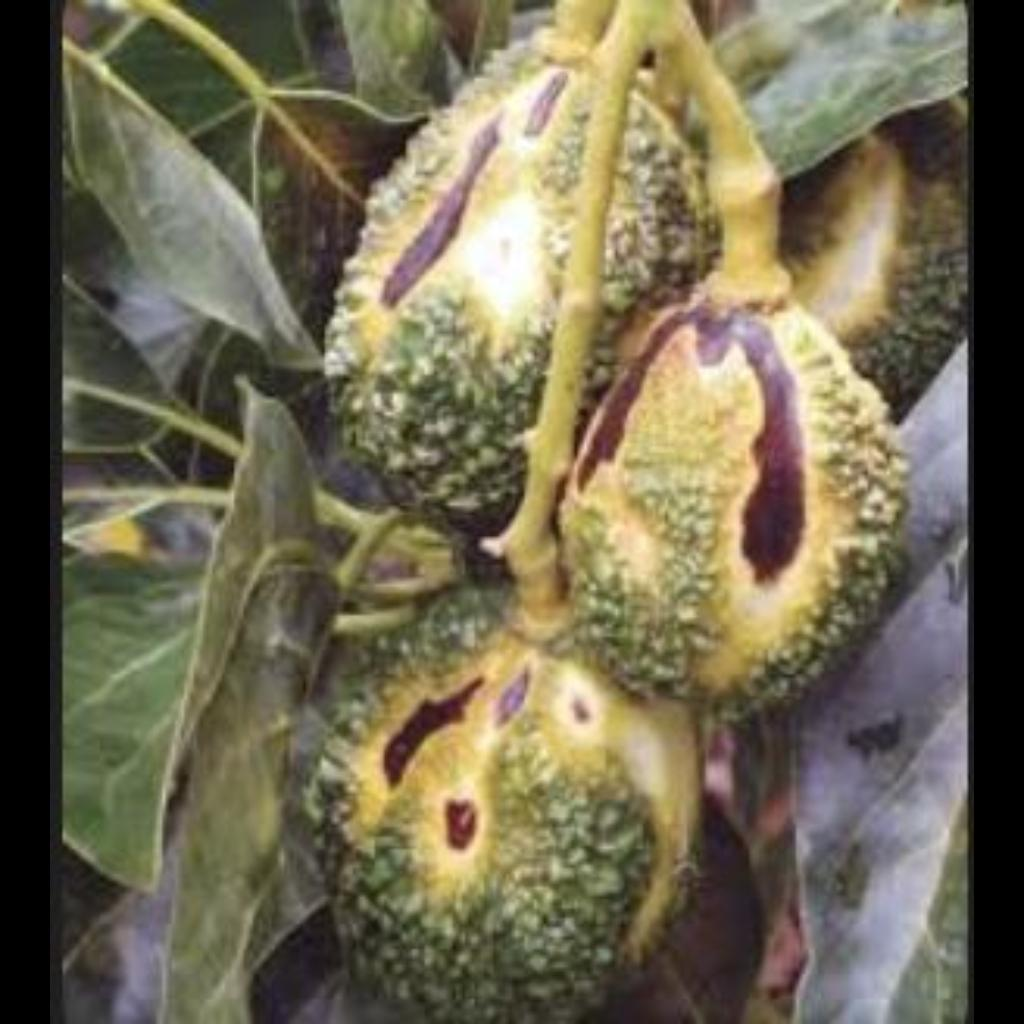antracnosis_fruto: (497, 167, 900, 701), (333, 27, 758, 514), (308, 510, 712, 1022)
